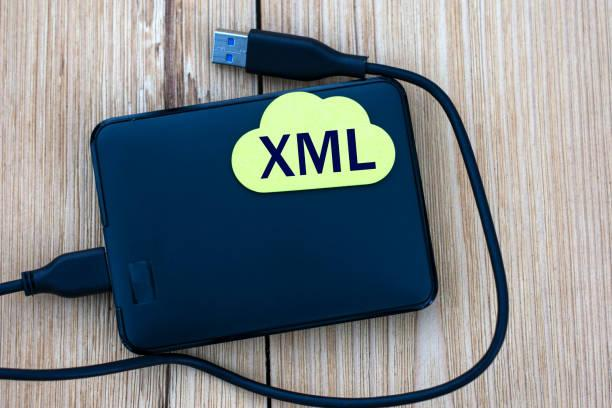HDD: (88, 78, 441, 357)
